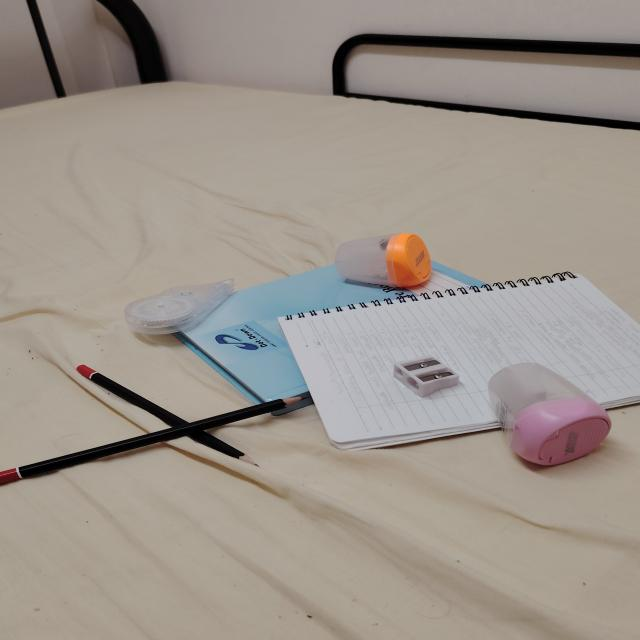pencil: (0, 393, 310, 485), (77, 365, 256, 464)
sharpener: (488, 363, 611, 465), (335, 233, 431, 288), (392, 356, 459, 398)
